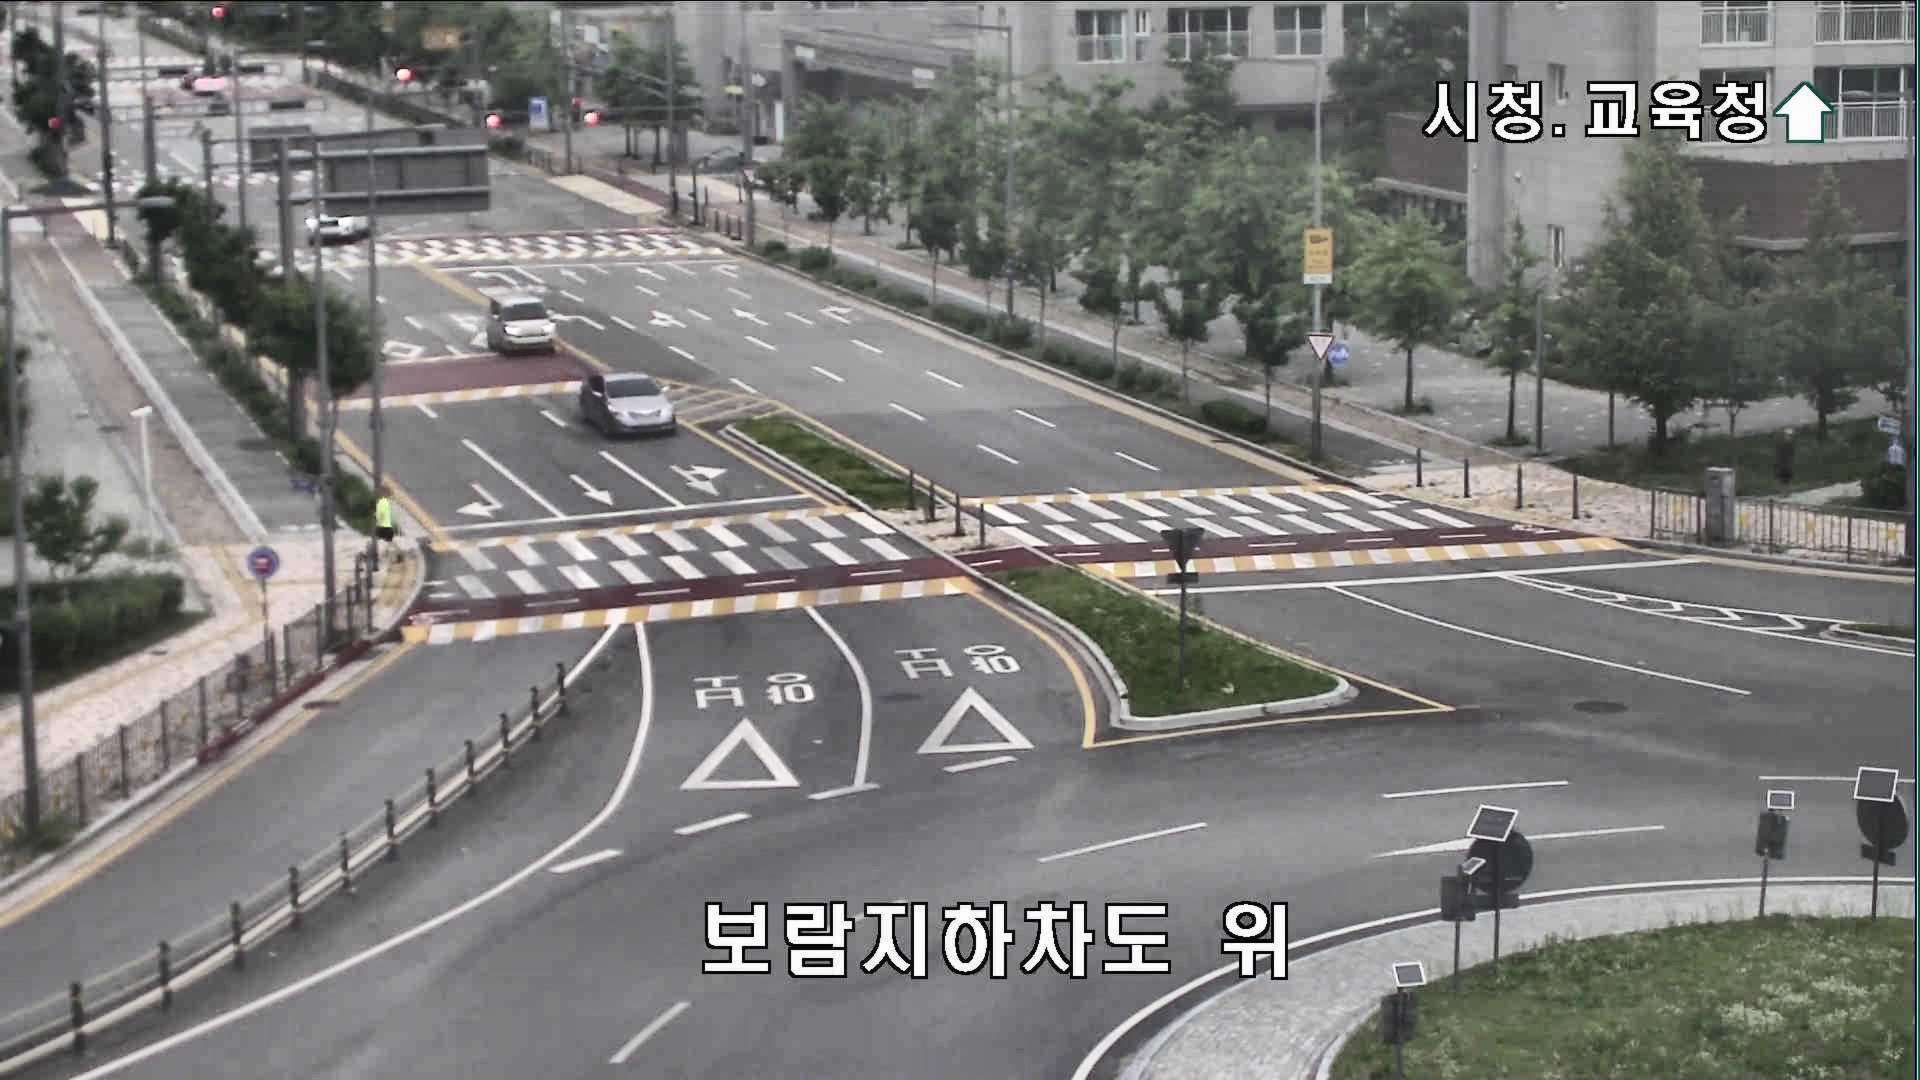sidewalk: (1770, 425, 1799, 498), (371, 484, 396, 564)
